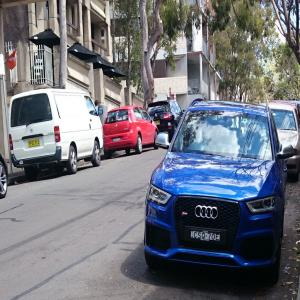Vehicle-registration-plate: (191, 230, 222, 243), (29, 141, 41, 149), (113, 136, 123, 143), (157, 122, 161, 126)
